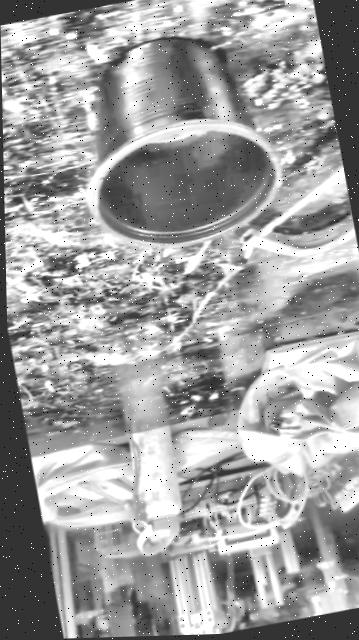pot: (66, 21, 283, 258)
